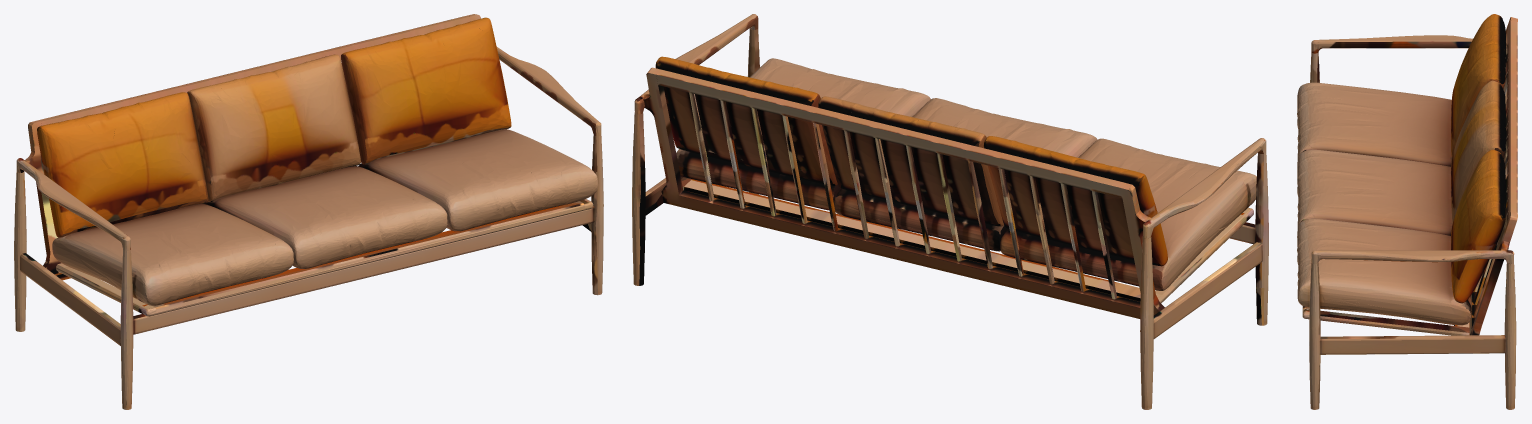
Rendered from edited_mesh.glb.
3 views of the same model, side by side, from view 1: azimuth 30°, elevation 25°; view 2: azimuth 150°, elevation 25°; view 3: azimuth 270°, elevation 25° (orthographic). The views are drawn at different scales.
Parts seen in each view (by area): view 1: solid_001_wire; view 2: solid_001_wire; view 3: solid_001_wire.
Part boxes in pixels (bbox=[...]): solid_001_wire: bbox=[14, 14, 603, 409]; solid_001_wire: bbox=[632, 14, 1268, 409]; solid_001_wire: bbox=[1297, 14, 1517, 409].
Size of the model in its own units: 2 by 0.7861 by 0.8303.
1 material, 1 textured.
